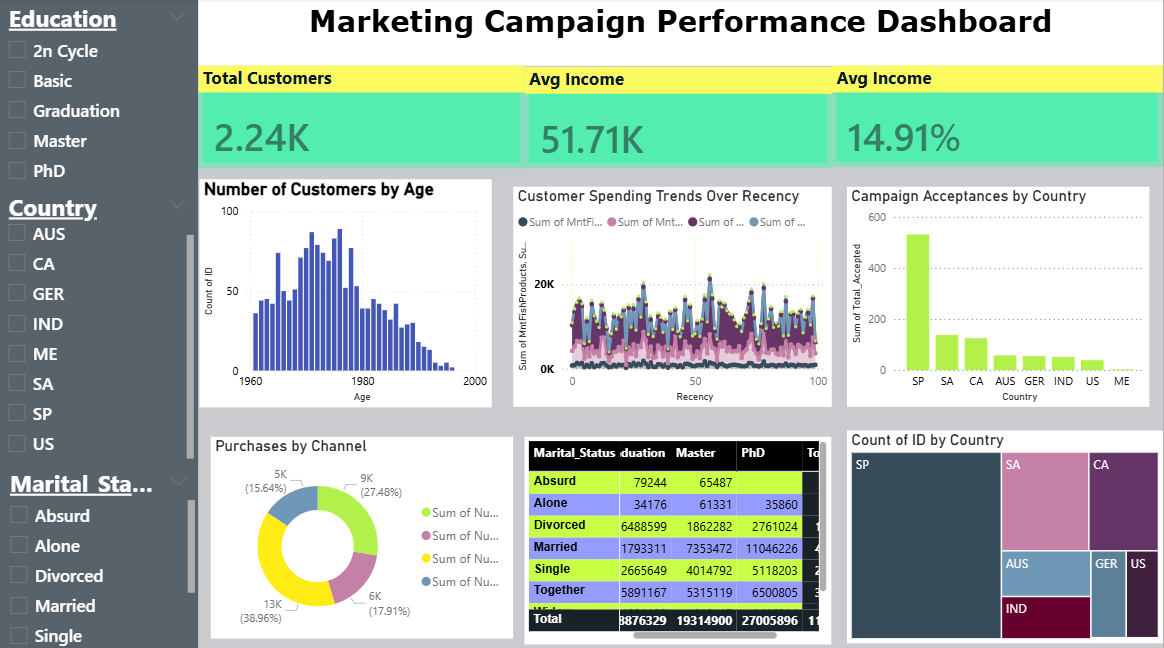

The dashboard page shown, as its layout file describes it:
{"tool":"powerbi","page":{"name":"Page 1","canvas":[1280,720],"ordinal":0},"visuals":[{"type":"textbox","box":[220.9,0,1059.4,74.1],"z":0},{"type":"shape","box":[0,0,220.9,720.4],"z":1000},{"type":"cardVisual","title":"Total Customers","fields":{"Data":["Count(marketing_data.ID)"]},"box":[220.9,74.1,358.1,112.5],"z":2000},{"type":"cardVisual","title":"Avg Income","fields":{"Data":["Avg(marketing_data.Income)"]},"box":[579.1,75.5,337.6,111.1],"z":3000},{"type":"cardVisual","title":"Avg Income","fields":{"Data":["Avg(marketing_data.Response)"]},"box":[916.6,74.1,363.6,111.1],"z":4000},{"type":"slicer","fields":{"Values":["marketing_data.Education"]},"box":[0,0,220.9,220.9],"z":5000},{"type":"slicer","fields":{"Values":["marketing_data.Country"]},"box":[0,207.2,220.9,303.3],"z":6000},{"type":"slicer","fields":{"Values":["marketing_data.Marital_Status"]},"box":[1.4,510.5,220.9,209.9],"z":7000},{"type":"clusteredColumnChart","title":"Number of Customers by Age","fields":{"Category":["marketing_data.Year_Birth"],"Y":["CountNonNull(marketing_data.ID)"]},"box":[222.7,199,320.9,250],"z":8000},{"type":"treemap","fields":{"Group":["marketing_data.Country"],"Values":["Count(marketing_data.ID)"]},"box":[933,475.2,347.1,233.9],"z":9000},{"type":"clusteredColumnChart","title":"Campaign Acceptances by Country","fields":{"Y":["Sum(marketing_data.Total_Accepted)"],"Category":["marketing_data.Country"]},"box":[933,207.7,332.1,241.3],"z":10000},{"type":"donutChart","title":"Purchases by Channel","fields":{"Y":["Sum(marketing_data.NumWebPurchases)","Sum(marketing_data.NumCatalogPurchases)","Sum(marketing_data.NumStorePurchases)","Sum(marketing_data.NumDealsPurchases)"]},"box":[235.1,481.4,332.1,221.4],"z":11000},{"type":"pivotTable","fields":{"Rows":["marketing_data.Marital_Status"],"Columns":["marketing_data.Education"],"Values":["Sum(marketing_data.Income)"]},"box":[579.7,481.4,337.1,227.6],"z":12000},{"type":"stackedAreaChart","title":"Customer Spending Trends Over Recency","fields":{"Category":["marketing_data.Recency"],"Y":["Sum(marketing_data.MntFishProducts)","Sum(marketing_data.MntMeatProducts)","Sum(marketing_data.MntWines)","Sum(marketing_data.MntMeatProducts)","Sum(marketing_data.MntFruits)"]},"box":[567.2,207.7,349.6,241.3],"z":13000}]}

Visuals, with their boxes in screenshot pixels (x1, y1, x2, y2), scaled from the page's 1280x720 canvas onto the 1164x648 screenshot:
textbox: box(201, 0, 1163, 67)
shape: box(0, 0, 201, 647)
"Total Customers" cardVisual: box(201, 67, 527, 168)
"Avg Income" cardVisual: box(527, 68, 834, 168)
"Avg Income" cardVisual: box(834, 67, 1163, 167)
slicer - marketing_data.Education: box(0, 0, 201, 199)
slicer - marketing_data.Country: box(0, 186, 201, 459)
slicer - marketing_data.Marital_Status: box(1, 459, 202, 647)
"Number of Customers by Age" clusteredColumnChart: box(203, 179, 494, 404)
treemap - marketing_data.Country x Count(marketing_data.ID): box(848, 428, 1163, 638)
"Campaign Acceptances by Country" clusteredColumnChart: box(848, 187, 1150, 404)
"Purchases by Channel" donutChart: box(214, 433, 516, 633)
pivotTable - marketing_data.Marital_Status x marketing_data.Education: box(527, 433, 834, 638)
"Customer Spending Trends Over Recency" stackedAreaChart: box(516, 187, 834, 404)
